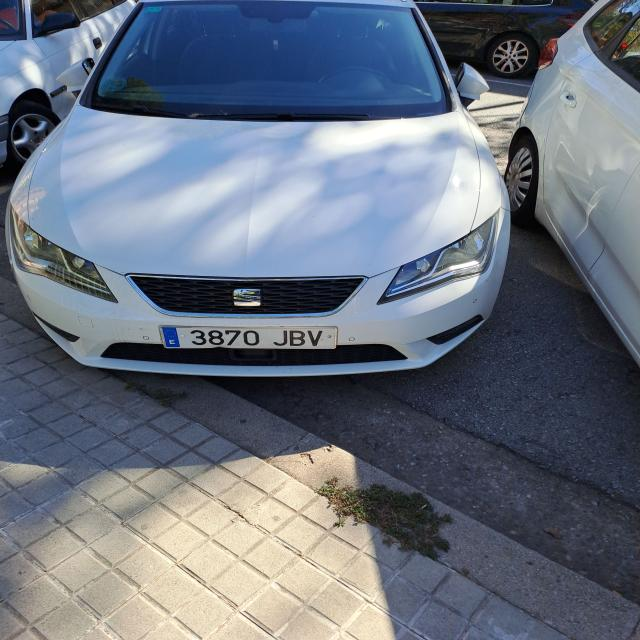license_plate-34Td: (160, 326, 337, 350)
